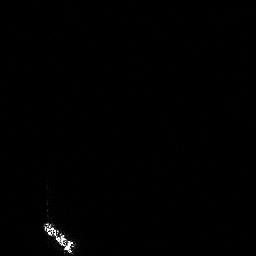ship: (38, 218, 81, 256)
